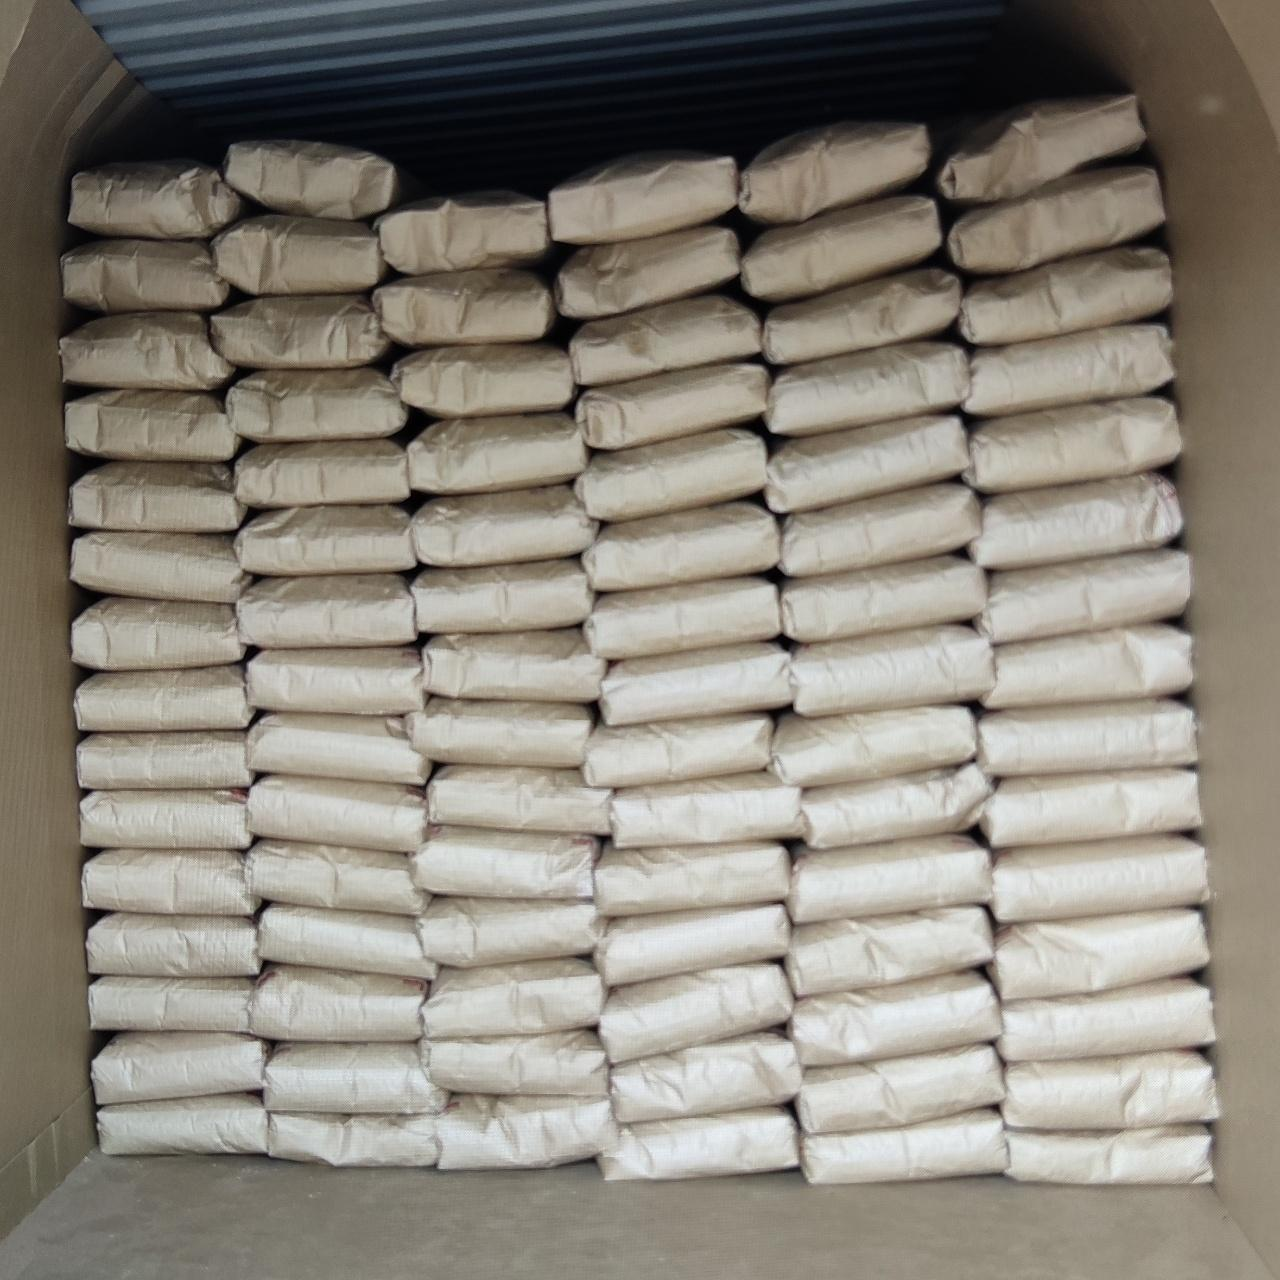sack: (946, 166, 1164, 273), (935, 95, 1145, 204), (741, 195, 941, 302), (964, 397, 1181, 494), (959, 247, 1172, 345), (970, 472, 1183, 569), (789, 970, 1001, 1066), (764, 415, 970, 513), (978, 548, 1190, 643), (989, 909, 1208, 1000), (738, 122, 931, 224), (988, 834, 1209, 923), (962, 324, 1174, 416), (764, 342, 968, 436), (763, 269, 962, 365), (970, 767, 1201, 849), (600, 964, 792, 1062), (786, 906, 992, 997), (789, 625, 995, 716), (778, 484, 981, 576), (795, 1045, 1004, 1133), (997, 978, 1215, 1061), (786, 835, 990, 923), (981, 624, 1192, 709), (576, 428, 766, 521), (548, 151, 738, 244), (582, 502, 780, 591), (782, 555, 986, 641), (569, 294, 761, 385), (555, 225, 739, 319), (609, 1032, 801, 1122), (976, 699, 1197, 776), (1001, 1051, 1219, 1128), (575, 364, 769, 450), (770, 706, 975, 786), (584, 576, 781, 659), (802, 763, 992, 848), (599, 642, 792, 725), (594, 904, 789, 986), (800, 1108, 1008, 1183), (410, 485, 598, 566), (375, 191, 552, 275), (423, 957, 606, 1038), (598, 1107, 798, 1180), (409, 413, 588, 494), (611, 772, 802, 847), (372, 268, 555, 346), (595, 843, 789, 916), (582, 714, 773, 787), (211, 215, 385, 295), (411, 557, 594, 633), (226, 367, 408, 443), (410, 827, 601, 899), (226, 140, 400, 219), (424, 1096, 614, 1168), (69, 161, 244, 239), (59, 312, 233, 390), (391, 344, 574, 418), (249, 965, 427, 1041), (247, 776, 425, 852), (424, 628, 606, 702), (258, 904, 436, 979), (246, 840, 425, 914), (405, 697, 593, 767), (210, 295, 389, 368), (246, 714, 430, 785), (237, 575, 418, 647), (416, 897, 602, 967), (265, 1043, 447, 1113), (71, 532, 250, 603), (427, 765, 611, 834), (91, 1032, 268, 1103), (67, 390, 241, 462), (72, 597, 246, 669), (62, 239, 230, 313), (69, 462, 247, 531), (1004, 1125, 1212, 1184), (419, 1031, 607, 1096), (234, 506, 416, 573), (247, 647, 424, 714), (235, 439, 409, 507), (75, 665, 254, 730), (83, 850, 259, 915), (86, 913, 261, 976), (77, 731, 253, 789), (81, 791, 252, 849), (99, 1095, 267, 1153), (268, 1112, 442, 1166), (89, 976, 254, 1032)
